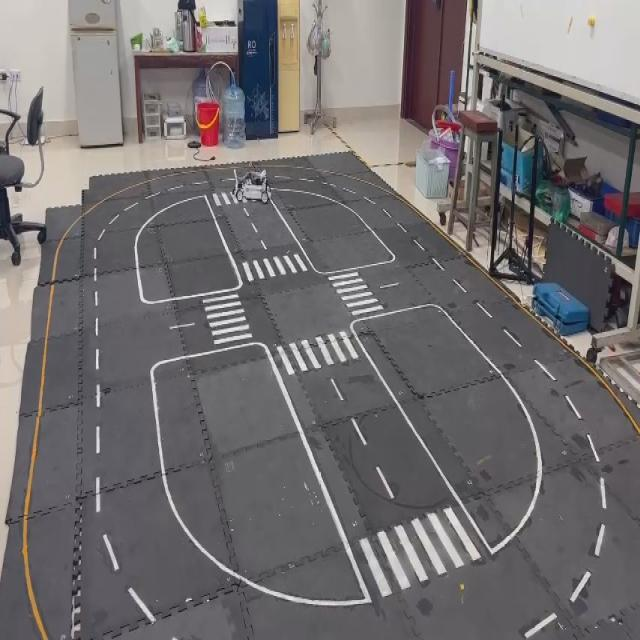SiCo-CAR: (231, 165, 272, 204)
